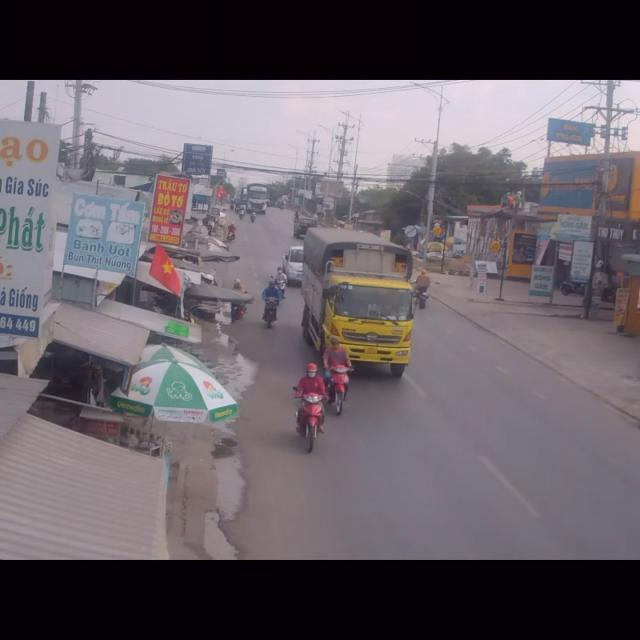motorbike: (290, 360, 326, 458), (324, 340, 350, 416), (413, 267, 432, 312), (260, 280, 278, 326), (274, 264, 288, 297)
truck: (299, 226, 414, 375)
